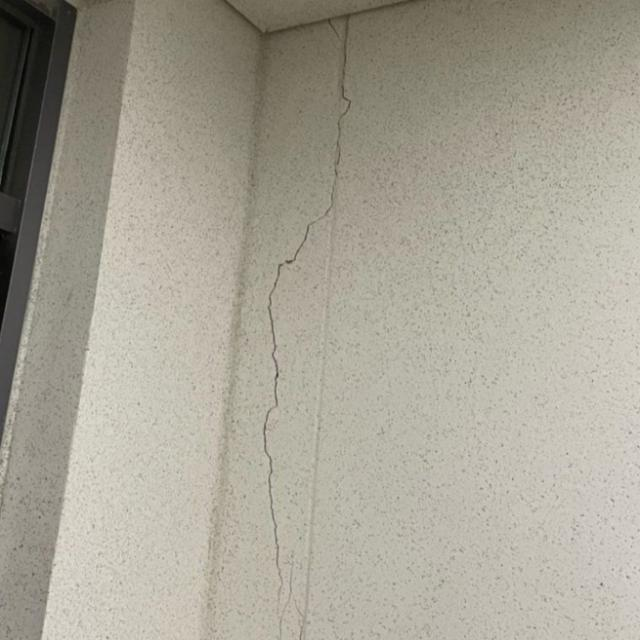Crack: (263, 16, 351, 560), (299, 573, 308, 639)
